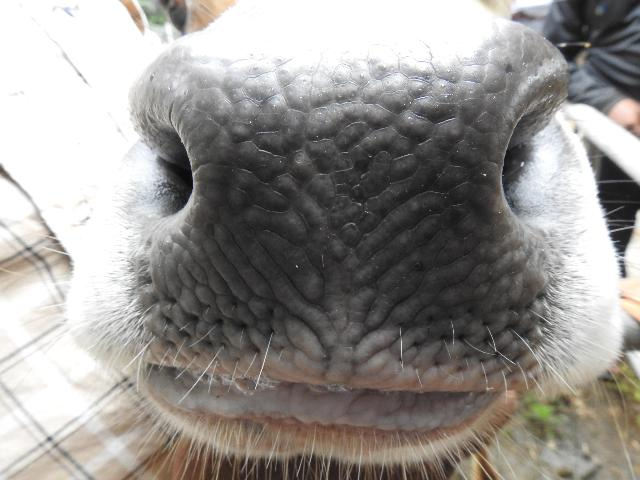Muzzle: (206, 57, 444, 381)
